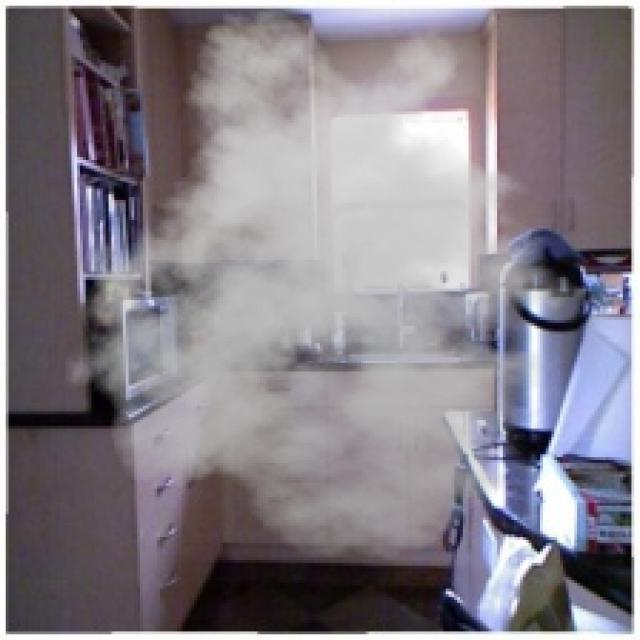Smoke: (51, 6, 608, 560)
